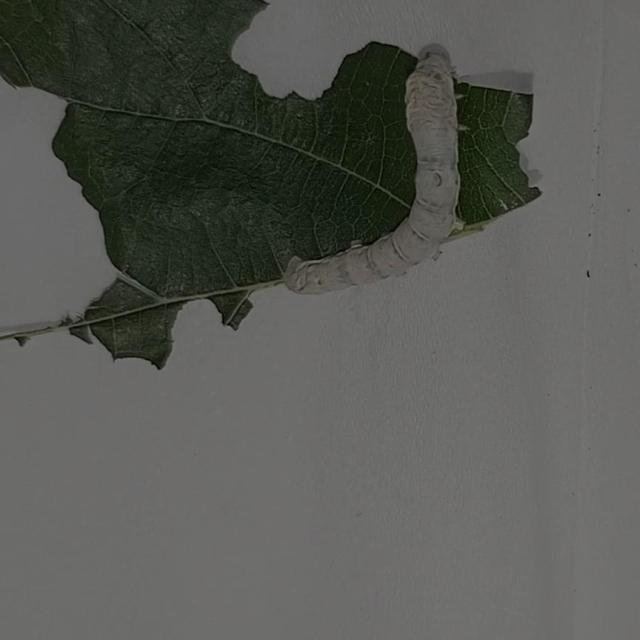Healthy: (252, 31, 488, 309)
